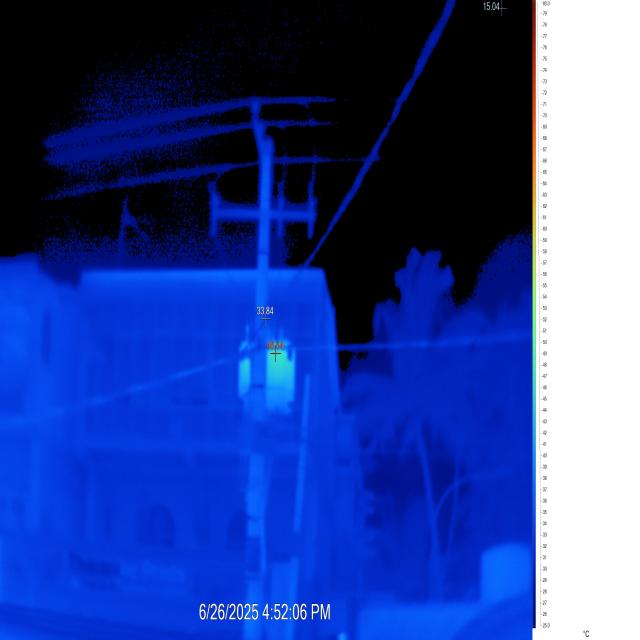Transformer: (12, 2, 529, 599)
